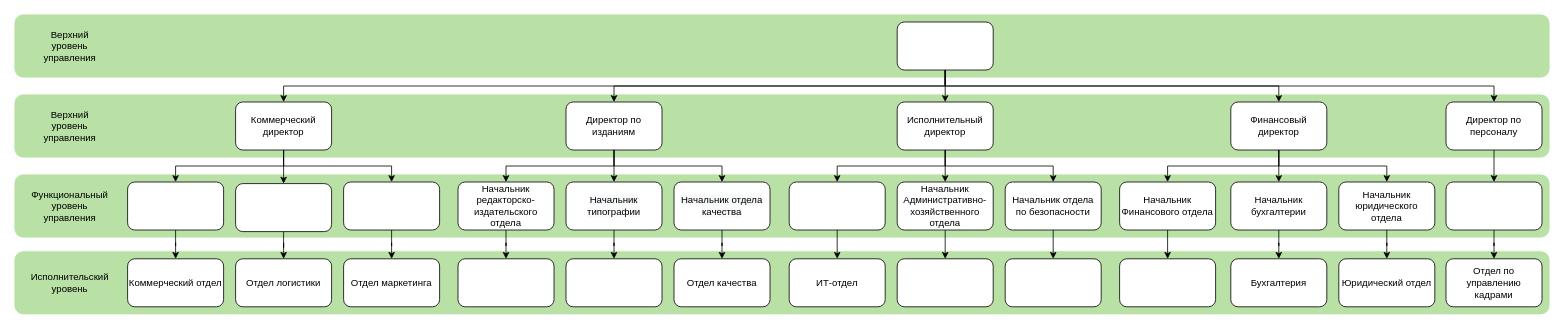
This 1564x329 diagram has some shape labels left out. Here are the shapes that lost their labels. From the top down, the box of each, then its label:
(896, 21, 993, 70): Генеральный директор
(127, 181, 224, 230): Начальник коммерческого отдела
(235, 183, 332, 232): Начальник отдела логистики
(343, 181, 440, 230): Начальник отдела маркетинга
(788, 181, 885, 230): Начальник ИТ-отдела
(1445, 181, 1542, 230): Начальник отдела по управлению кадрами
(457, 258, 554, 307): Редакторско-издательский отдел
(565, 258, 662, 307): Типография
(896, 258, 993, 307): Административно-хозяйственный отдел
(1004, 258, 1101, 307): Отдел по безопасности
(1119, 258, 1216, 307): Финансовый отдел
